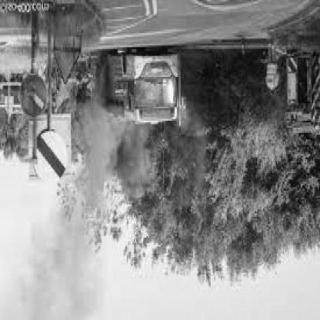Smoke: (76, 107, 162, 217)
